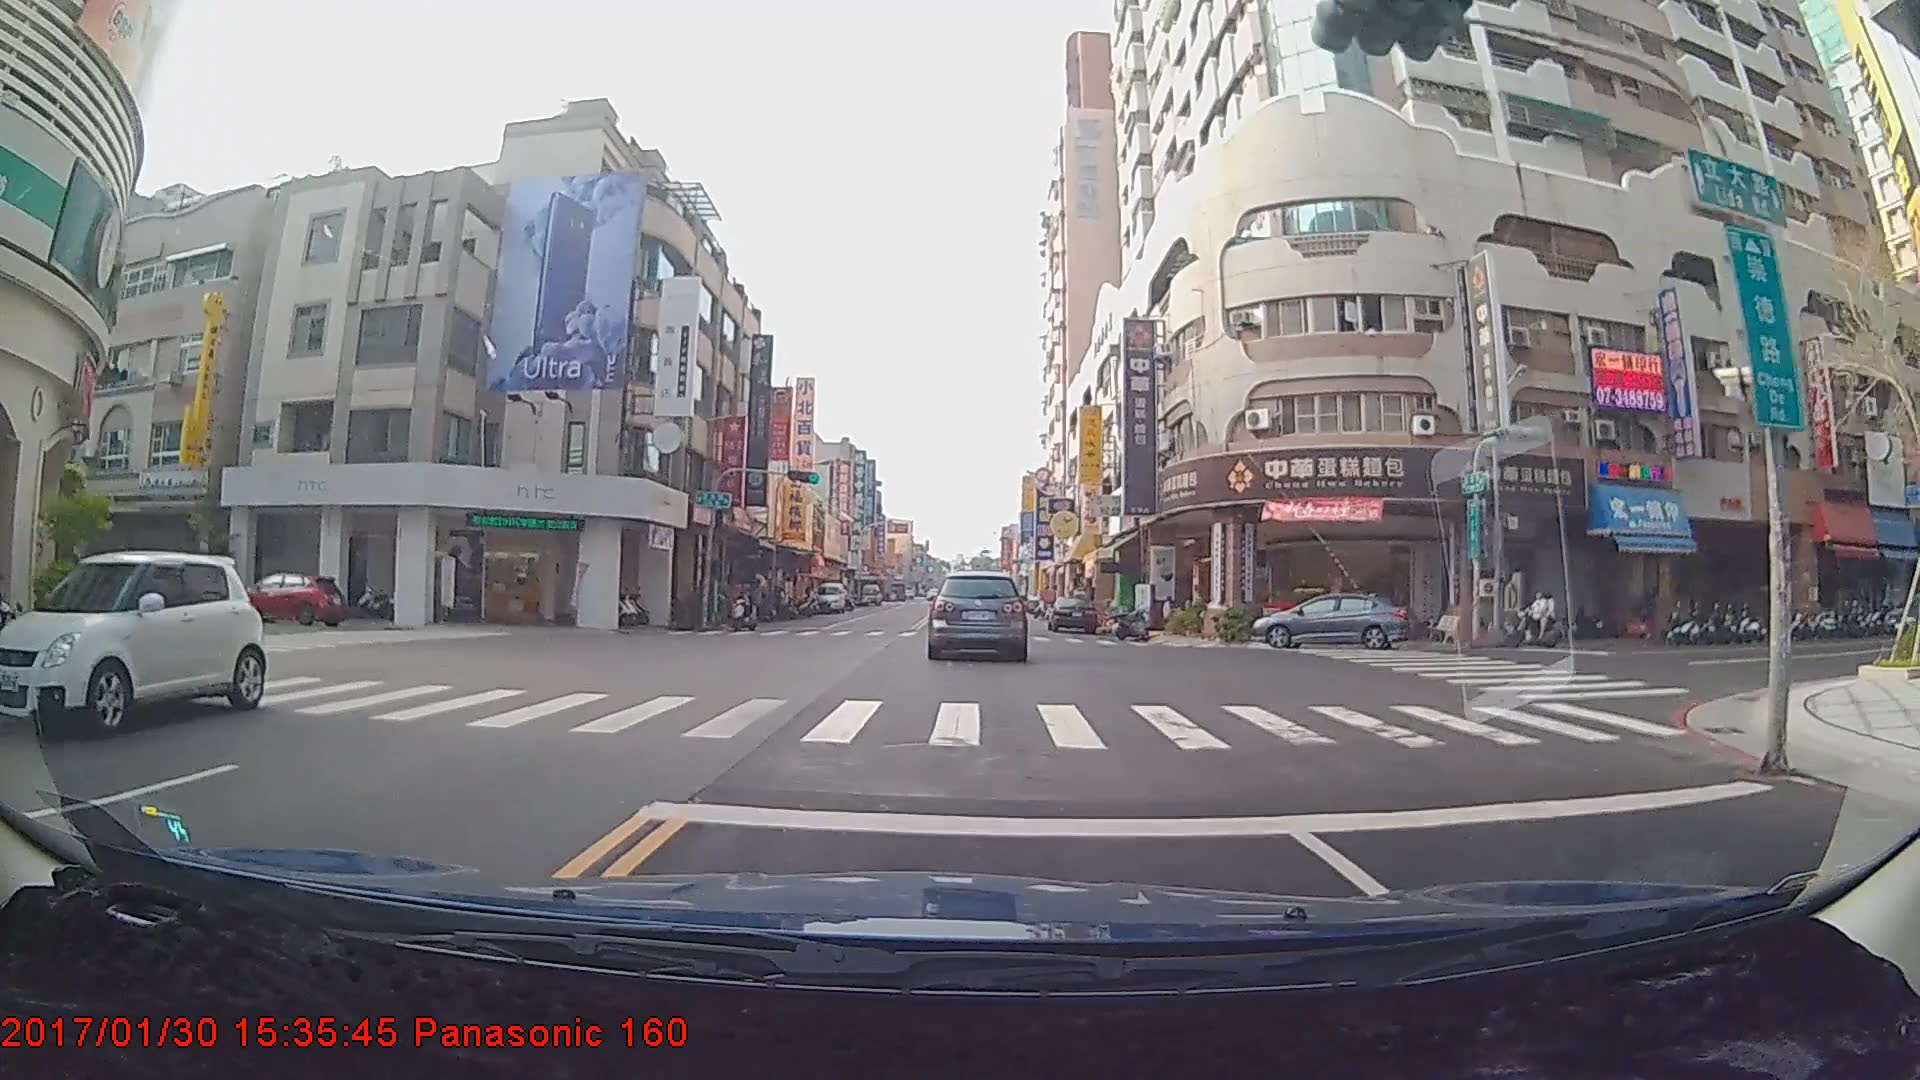rider: (1508, 589, 1568, 646), (725, 577, 760, 635)
vehicle: (0, 547, 265, 739), (1249, 590, 1408, 648), (929, 571, 1026, 661), (229, 572, 347, 629), (1047, 596, 1098, 634), (811, 583, 846, 615)
